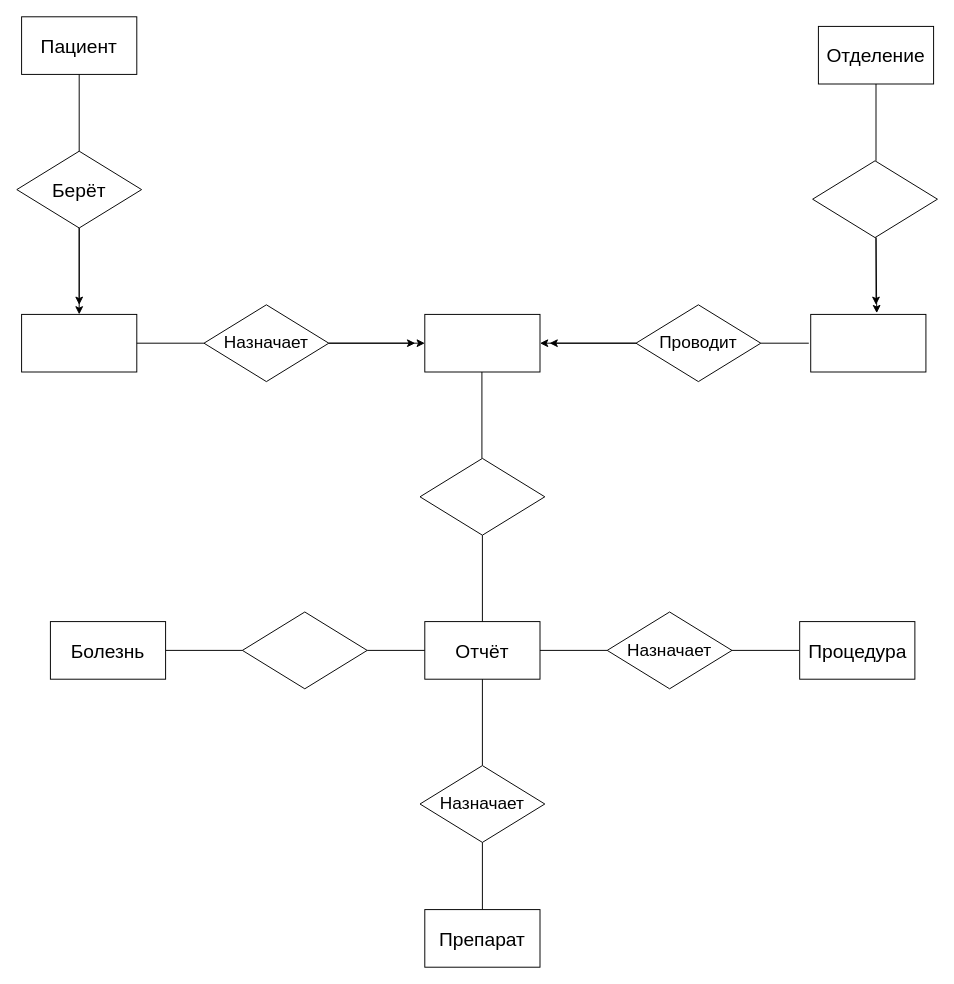
The diagram is 954 pixels wide and 984 high, and some of its shapes have lost their labels. The centre of each missing label's shape, as x and y in pixels:
"Врач" goes at (868,342).
"Выявляет" goes at (304,650).
"Имеет" goes at (874,199).
"Приём" goes at (482,342).
"Создаёт" goes at (482,496).
"Талон" goes at (79,342).
